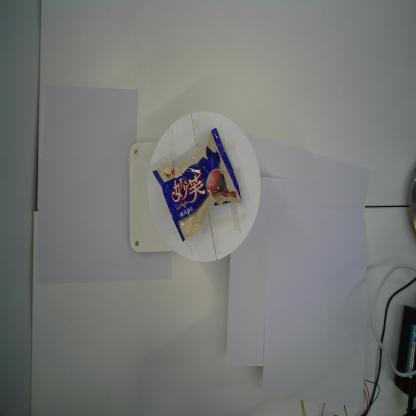Dessert: (149, 125, 241, 245)
